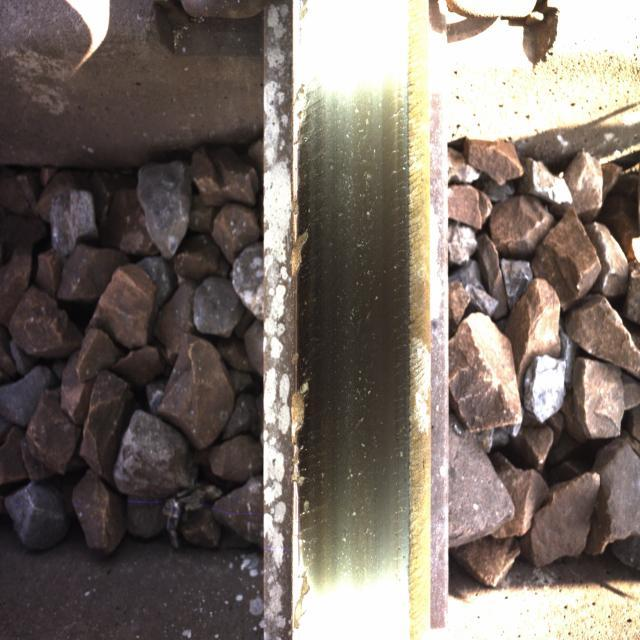crack: (289, 12, 350, 610)
